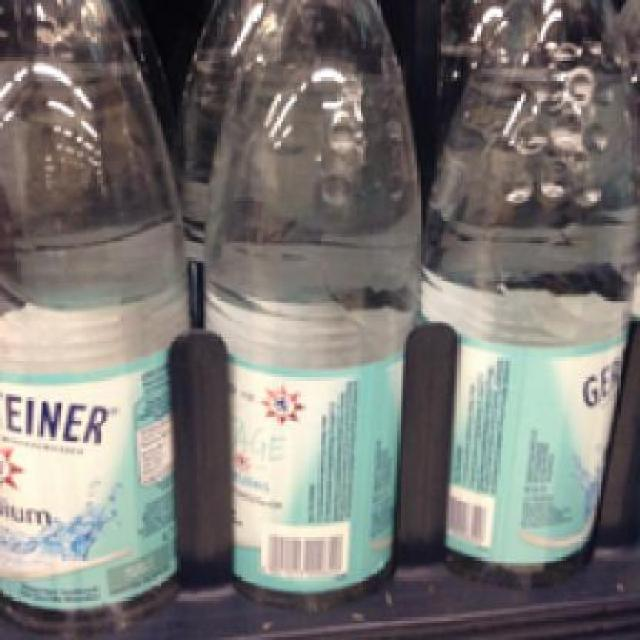Water: (182, 3, 418, 606), (416, 0, 635, 592), (0, 0, 186, 632)
